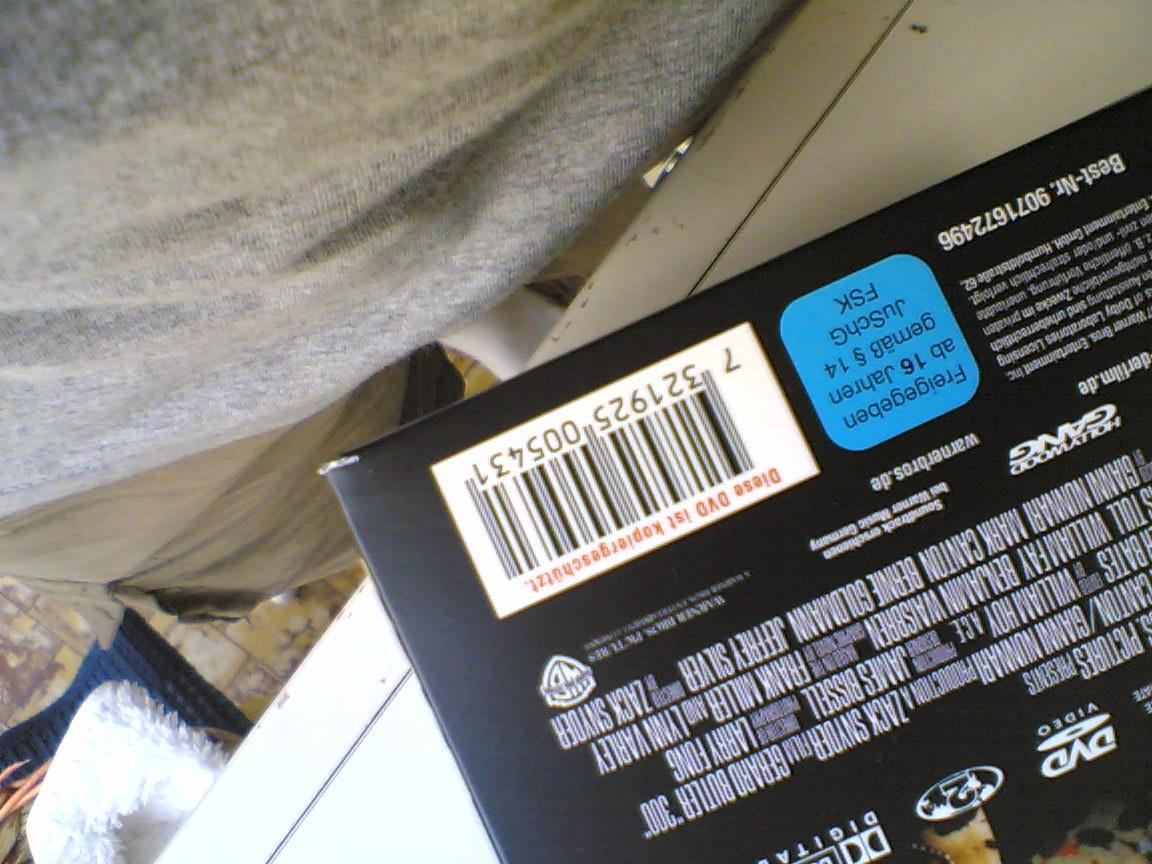Barcode: (429, 320, 823, 619)
